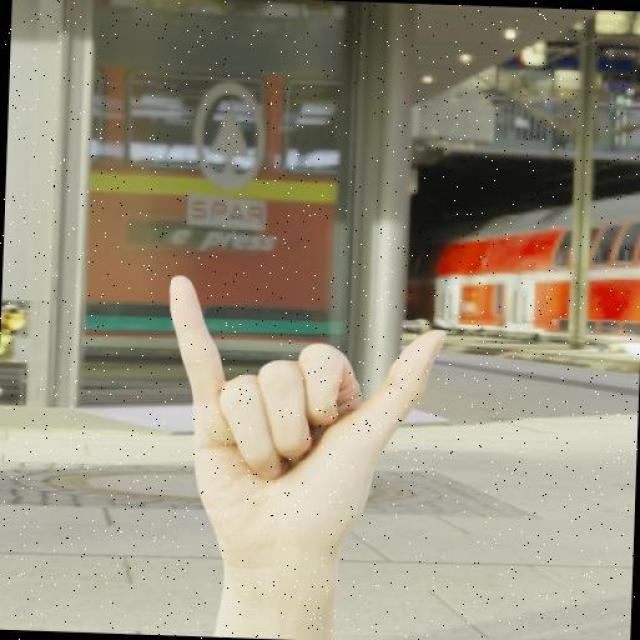Y: (151, 268, 449, 571)
